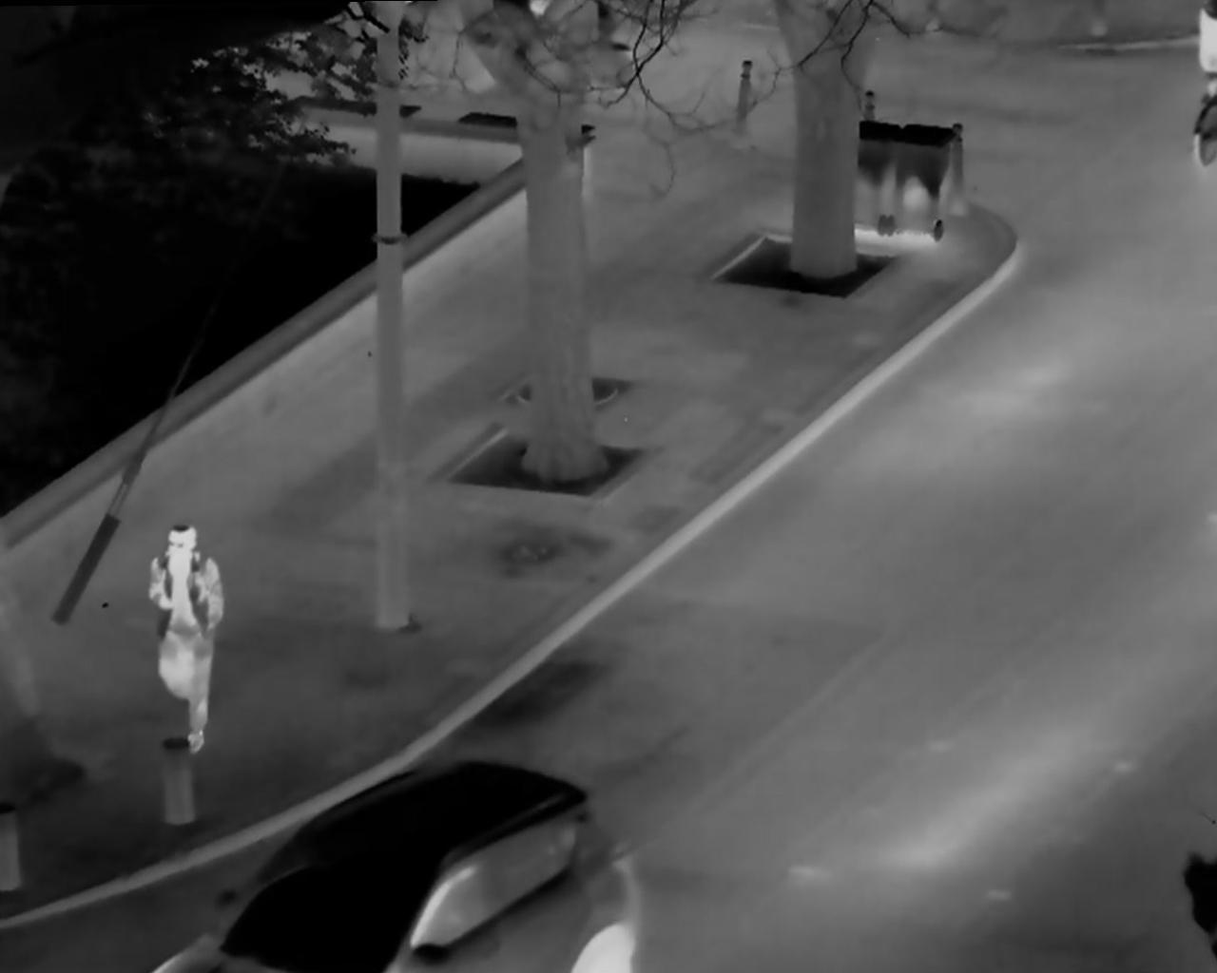person: (145, 517, 231, 754)
